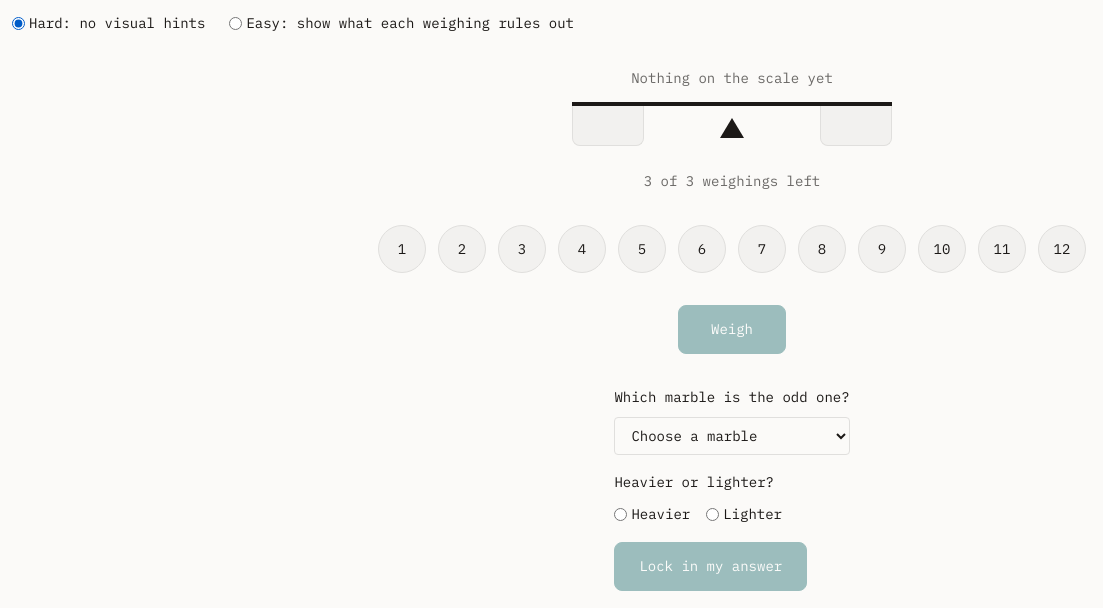
Scenario: MarblePuzzle › shows an incorrect result for a wrong guess
Select "Marble 2" in the dropdown labelled "Which marble is the odd one?" at point(732, 436), box [614,418,850,456]
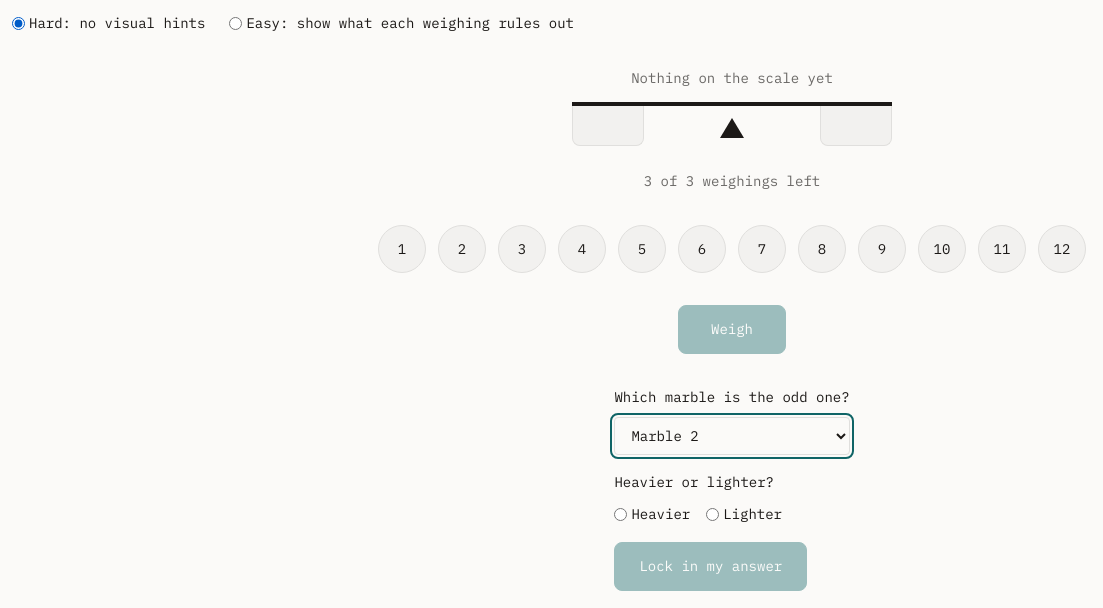
Click the radio button labelled "Heavier" at point(621, 514), box [614,508,627,521]
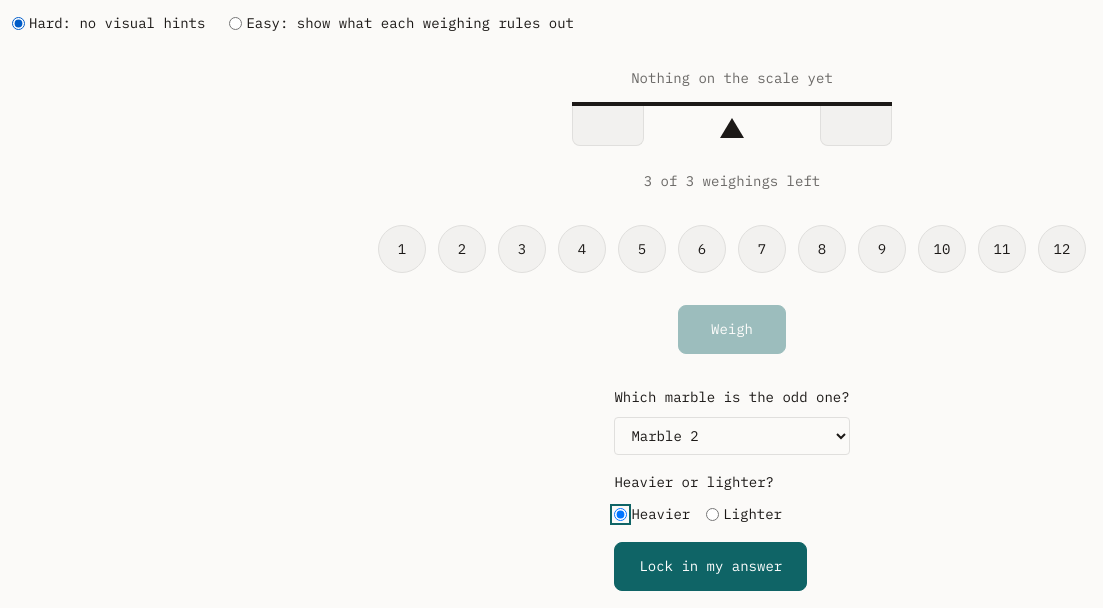
Click the button "Lock in my answer" at point(711, 566), box [614,542,807,591]
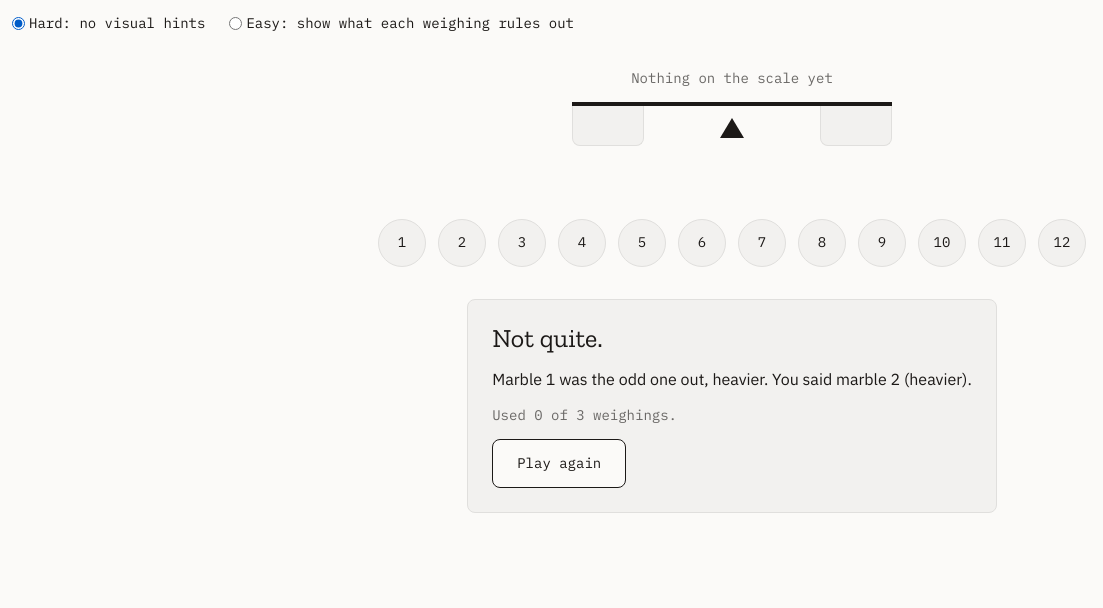
Now the heading "Not quite." is shown, box [492,324,603,354]
